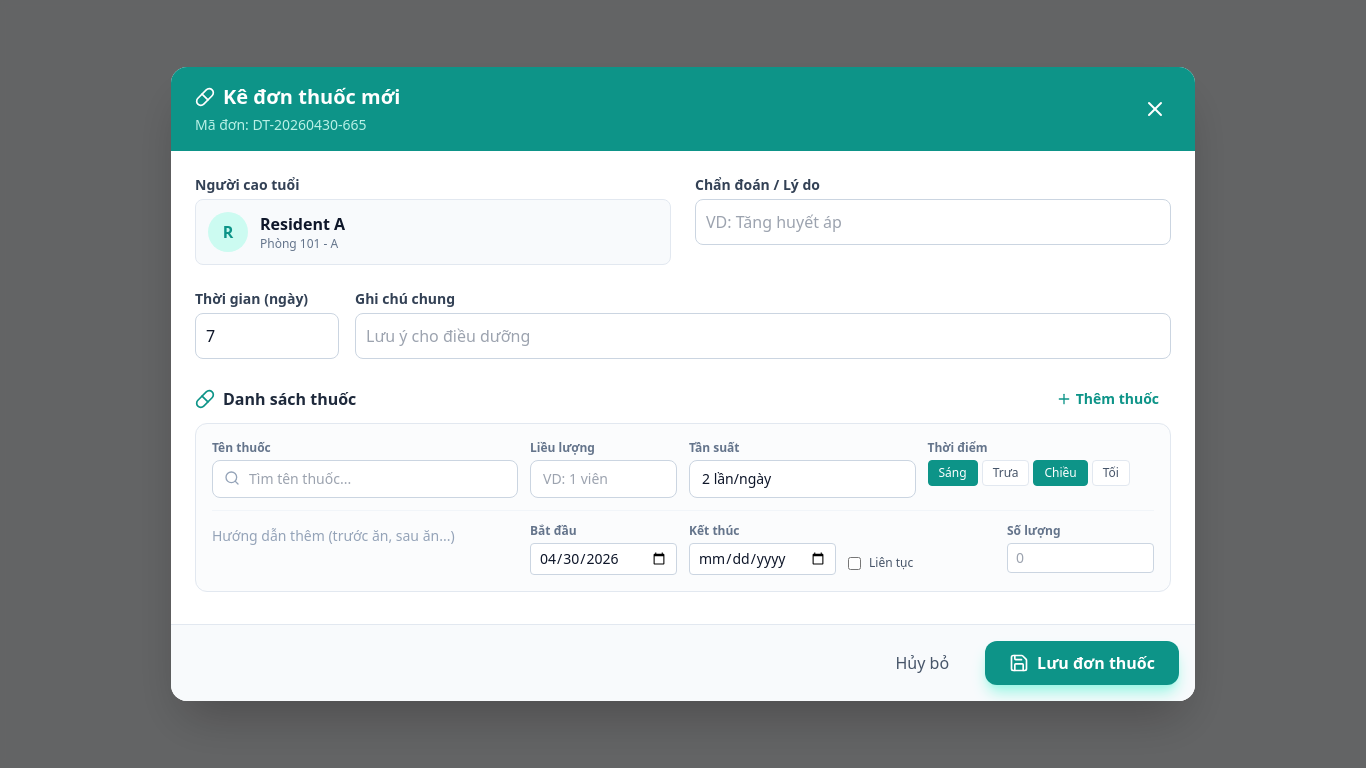
Scenario: PrescriptionForm › does not save an ambiguous or unbound medicine name
In the field with placeholder "VD: Tăng huyết áp": [933, 222] box x1=695 y1=199 x2=1171 y2=245, type "Sot"
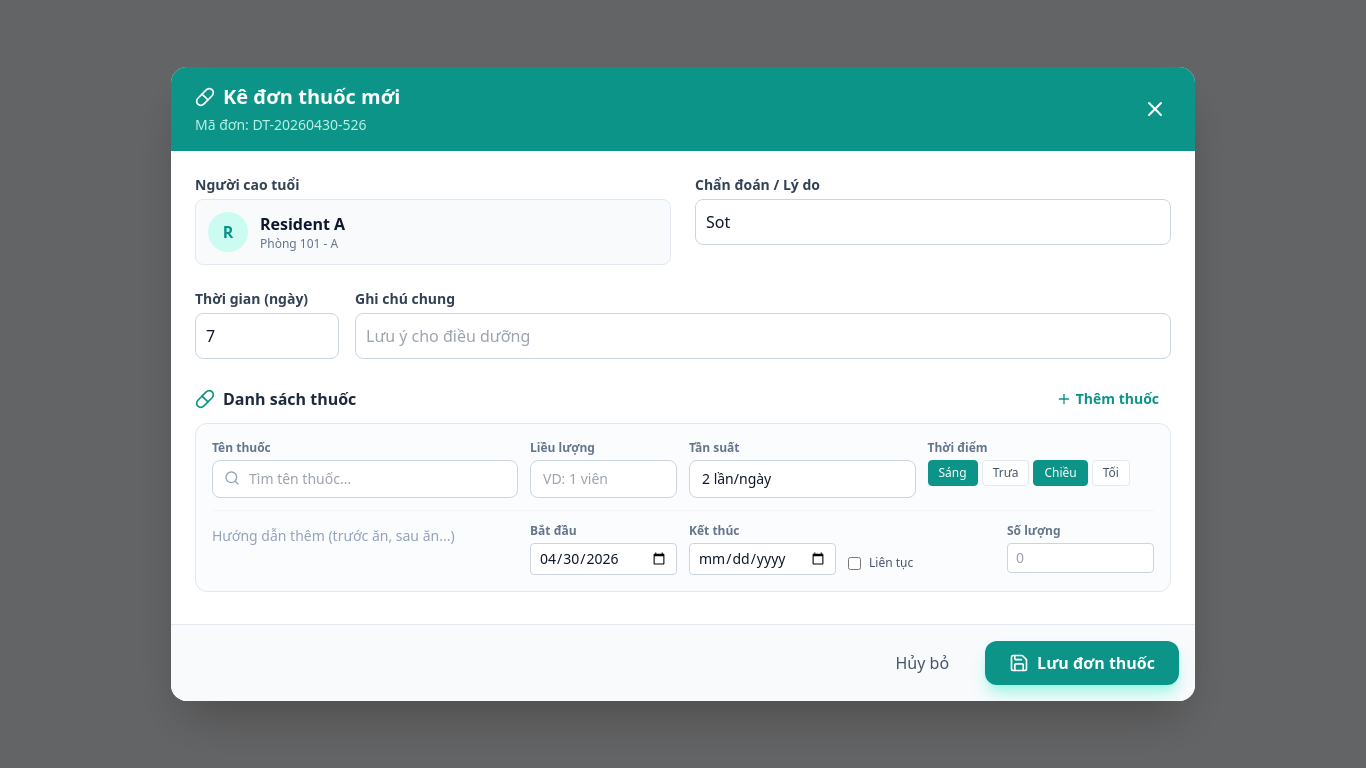
In the dropdown: [365, 479] box x1=212 y1=460 x2=518 y2=498, type "Paracetamol"
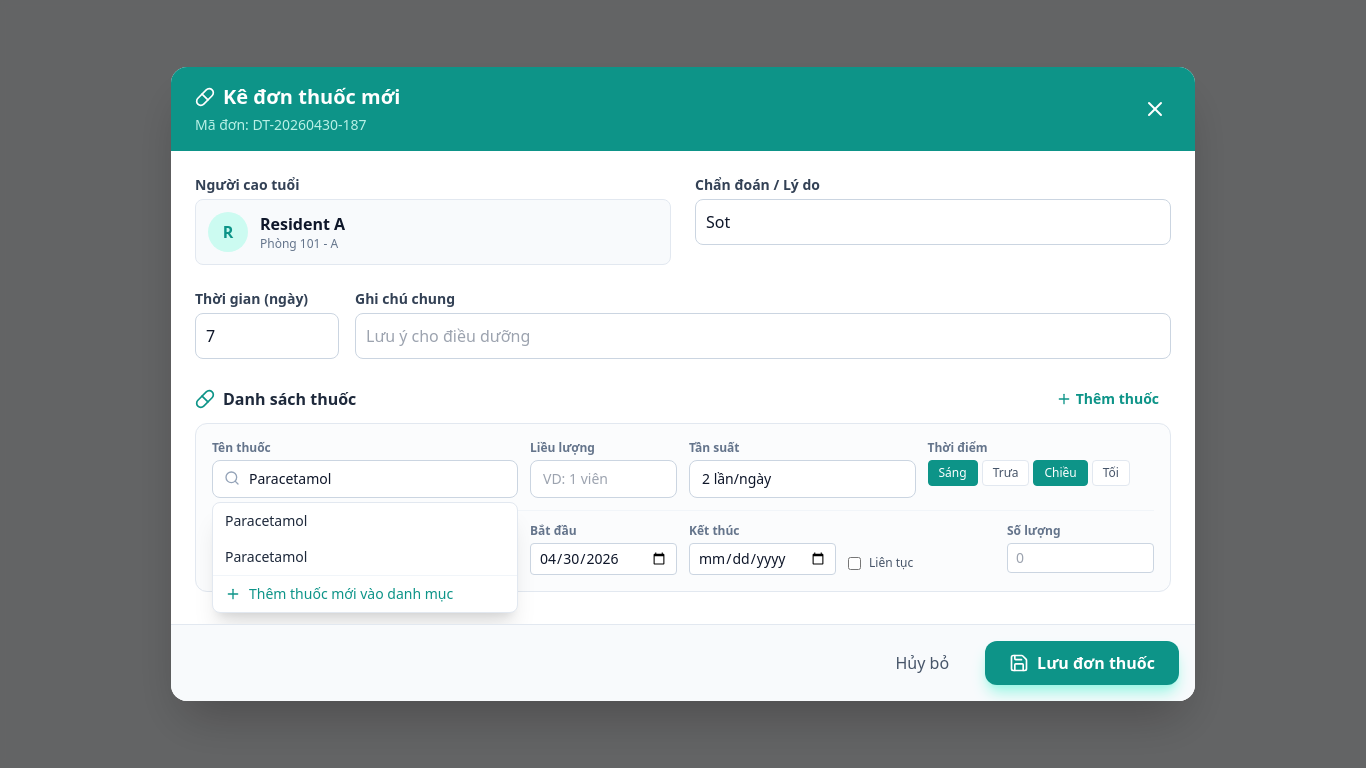
In the field with placeholder "VD: 1 viên": [604, 479] box x1=530 y1=460 x2=677 y2=498, type "1 vien"
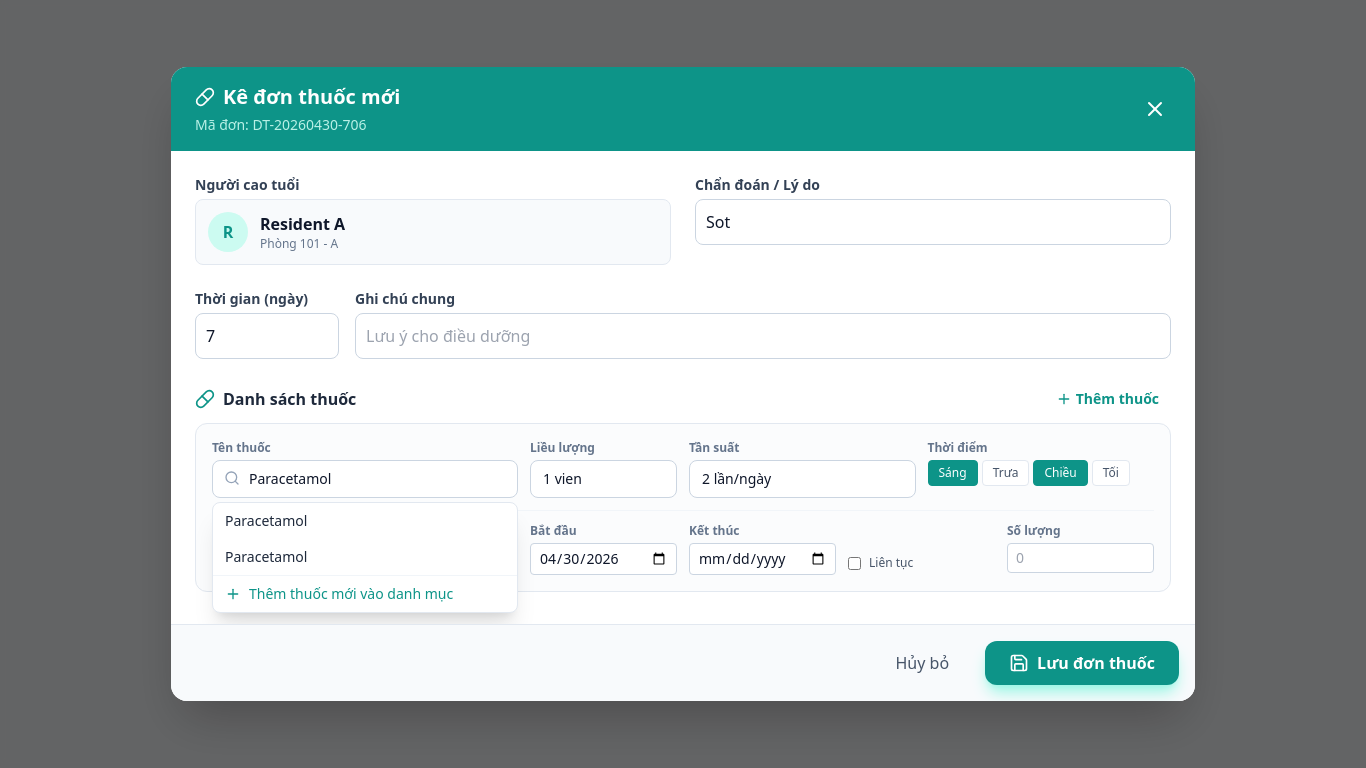
Click the button "Lưu đơn thuốc": [1082, 663] box x1=985 y1=641 x2=1179 y2=685
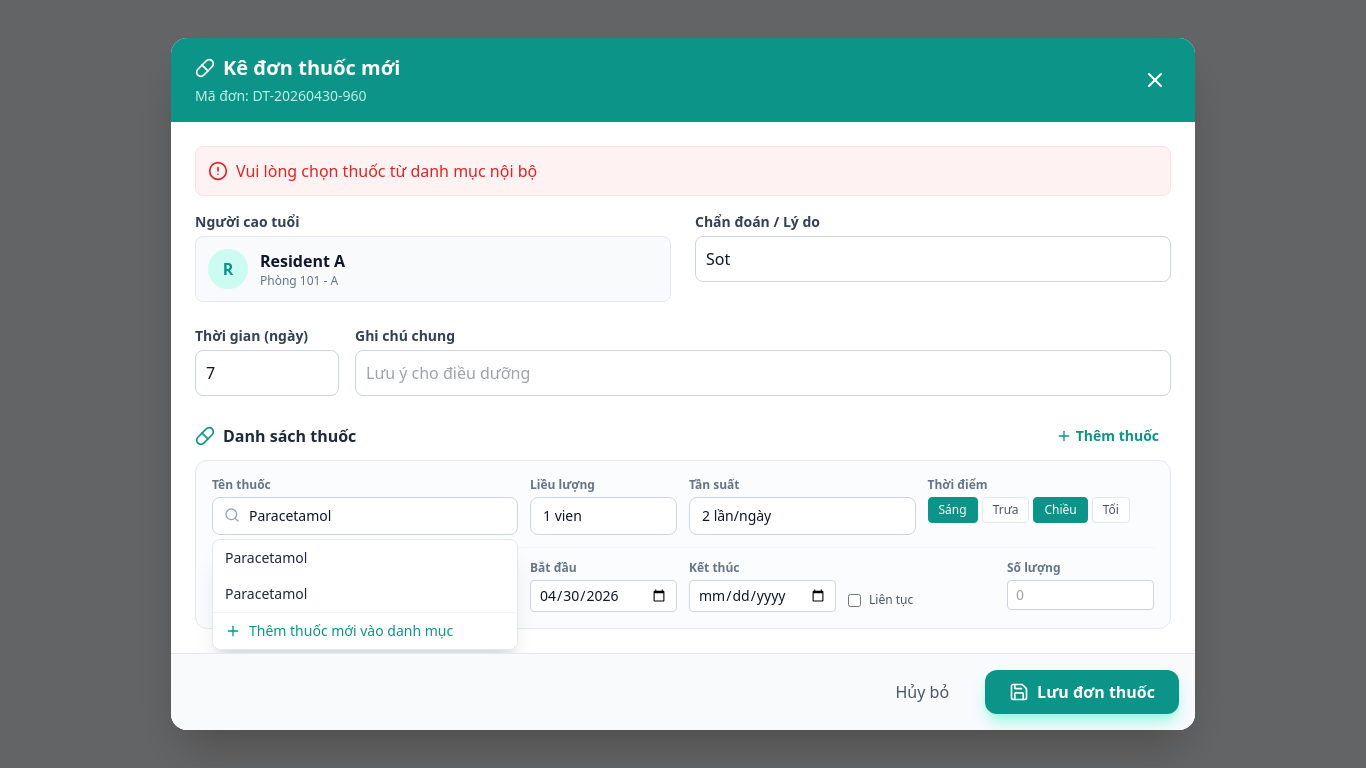
Now the message reads "Vui lòng chọn thuốc từ danh mục nội bộ", box x1=236 y1=160 x2=537 y2=182
